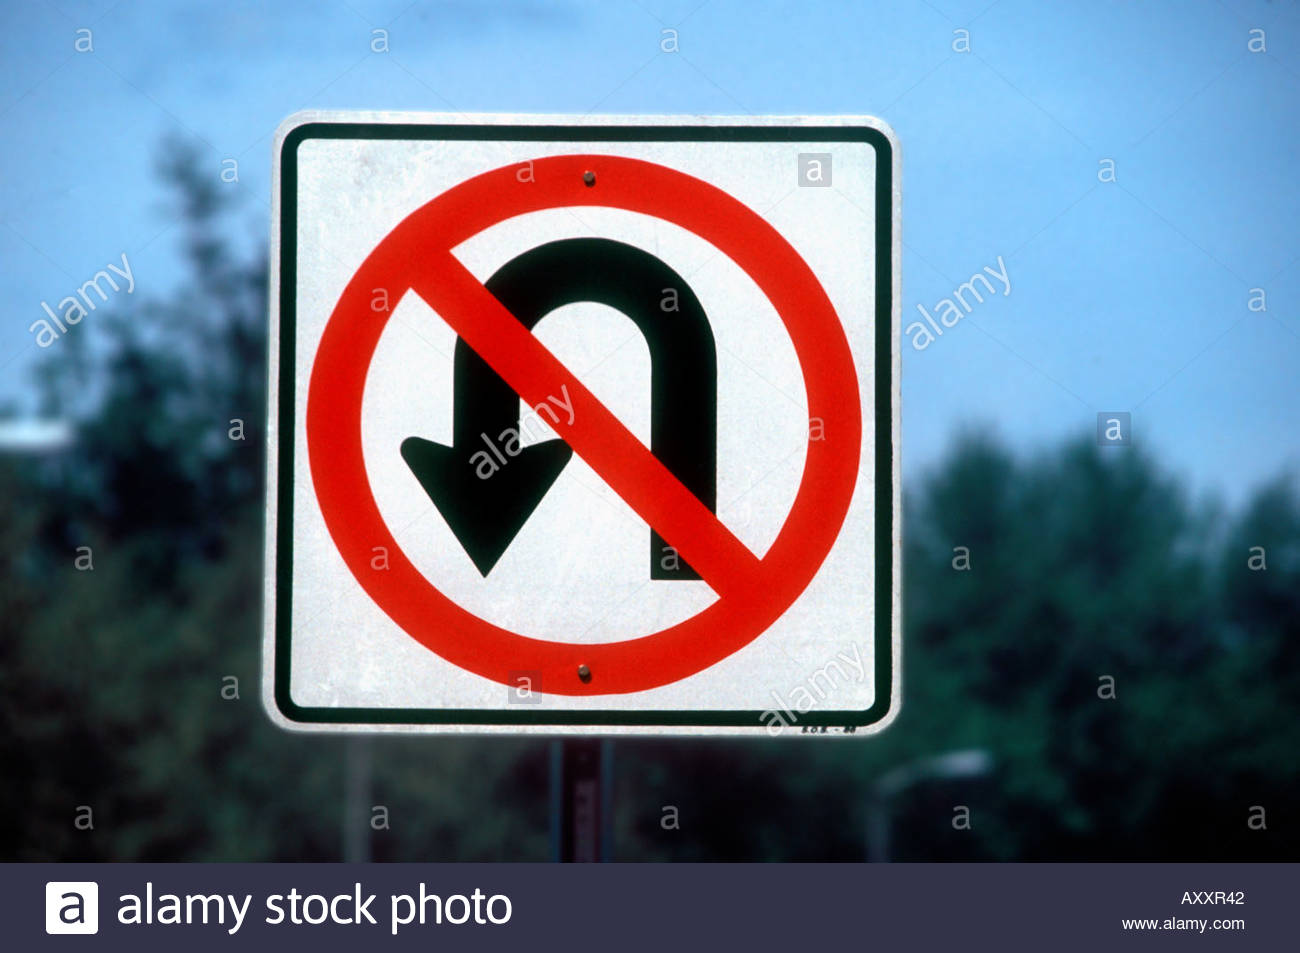No_u_turn: (304, 156, 865, 696)
